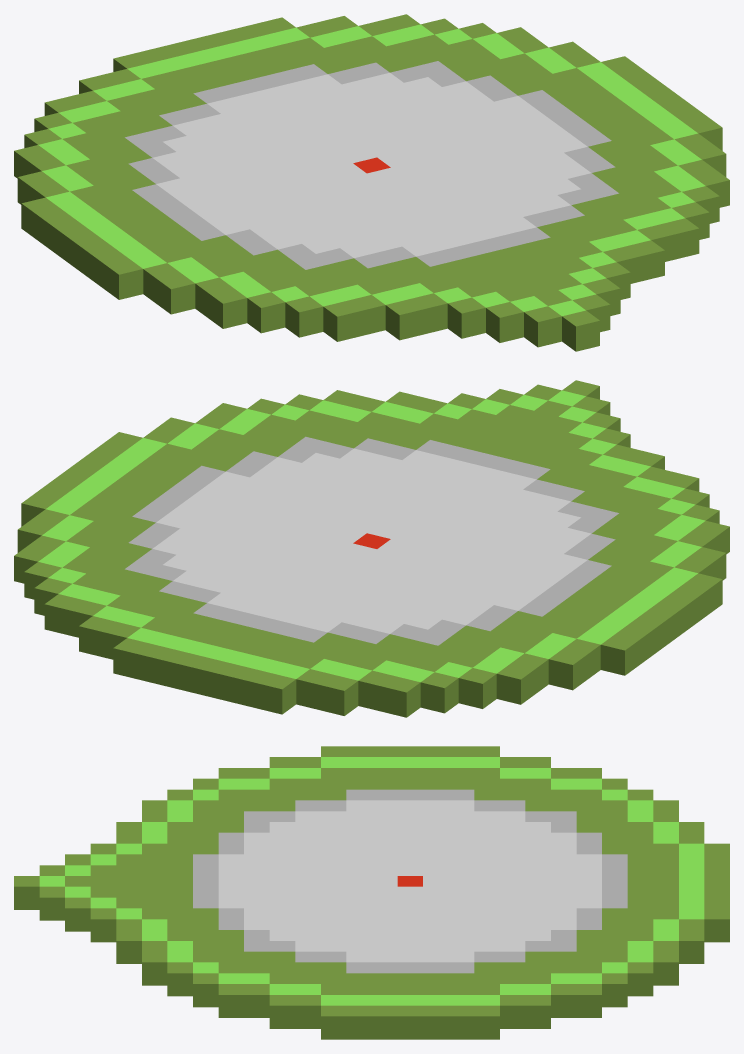
Rendered from powder_pao_pic.fbx.
3 renders of one model, top to bottom at view 1: azimuth 30°, elevation 25°; view 2: azimuth 150°, elevation 25°; view 3: azimuth 270°, elevation 25°, orthographic. The views are drawn at different scales.
Visible parts, largest first — view 1: powder_pao_pic1:Mesh; view 2: powder_pao_pic1:Mesh; view 3: powder_pao_pic1:Mesh.
Part boxes in pixels (left/top/right/bottom): powder_pao_pic1:Mesh: left=14, top=14, right=729, bottom=351; powder_pao_pic1:Mesh: left=14, top=380, right=729, bottom=717; powder_pao_pic1:Mesh: left=14, top=746, right=729, bottom=1039.
Size of the model in its own units: 25 by 1 by 28.
